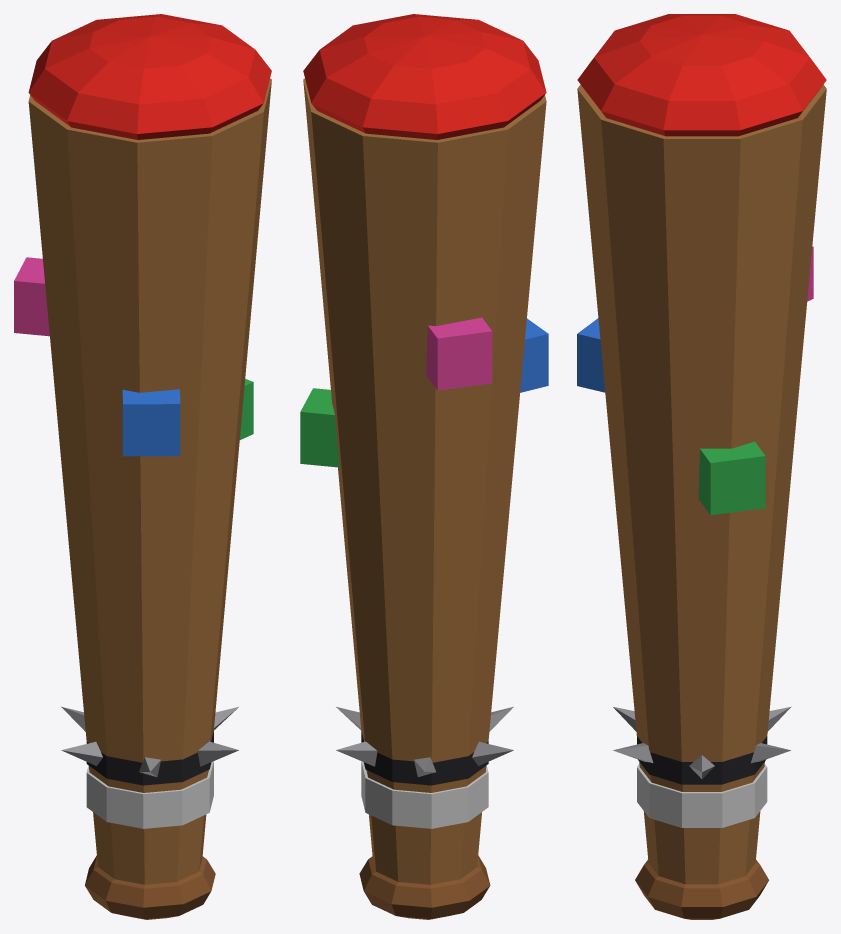
The model's file is BaseballBat.fbx.
3 views of the same model, side by side, from view 1: azimuth 30°, elevation 25°; view 2: azimuth 150°, elevation 25°; view 3: azimuth 270°, elevation 25° (orthographic).
Parts seen in each view (by area): view 1: BaseballBat; view 2: BaseballBat; view 3: BaseballBat.
Part boxes in pixels (<box>): BaseballBat: <box>14,14,271,919</box>; BaseballBat: <box>300,14,548,919</box>; BaseballBat: <box>577,14,826,919</box>.
Size of the model in its own units: 0.2535 by 1.01 by 0.2602.
